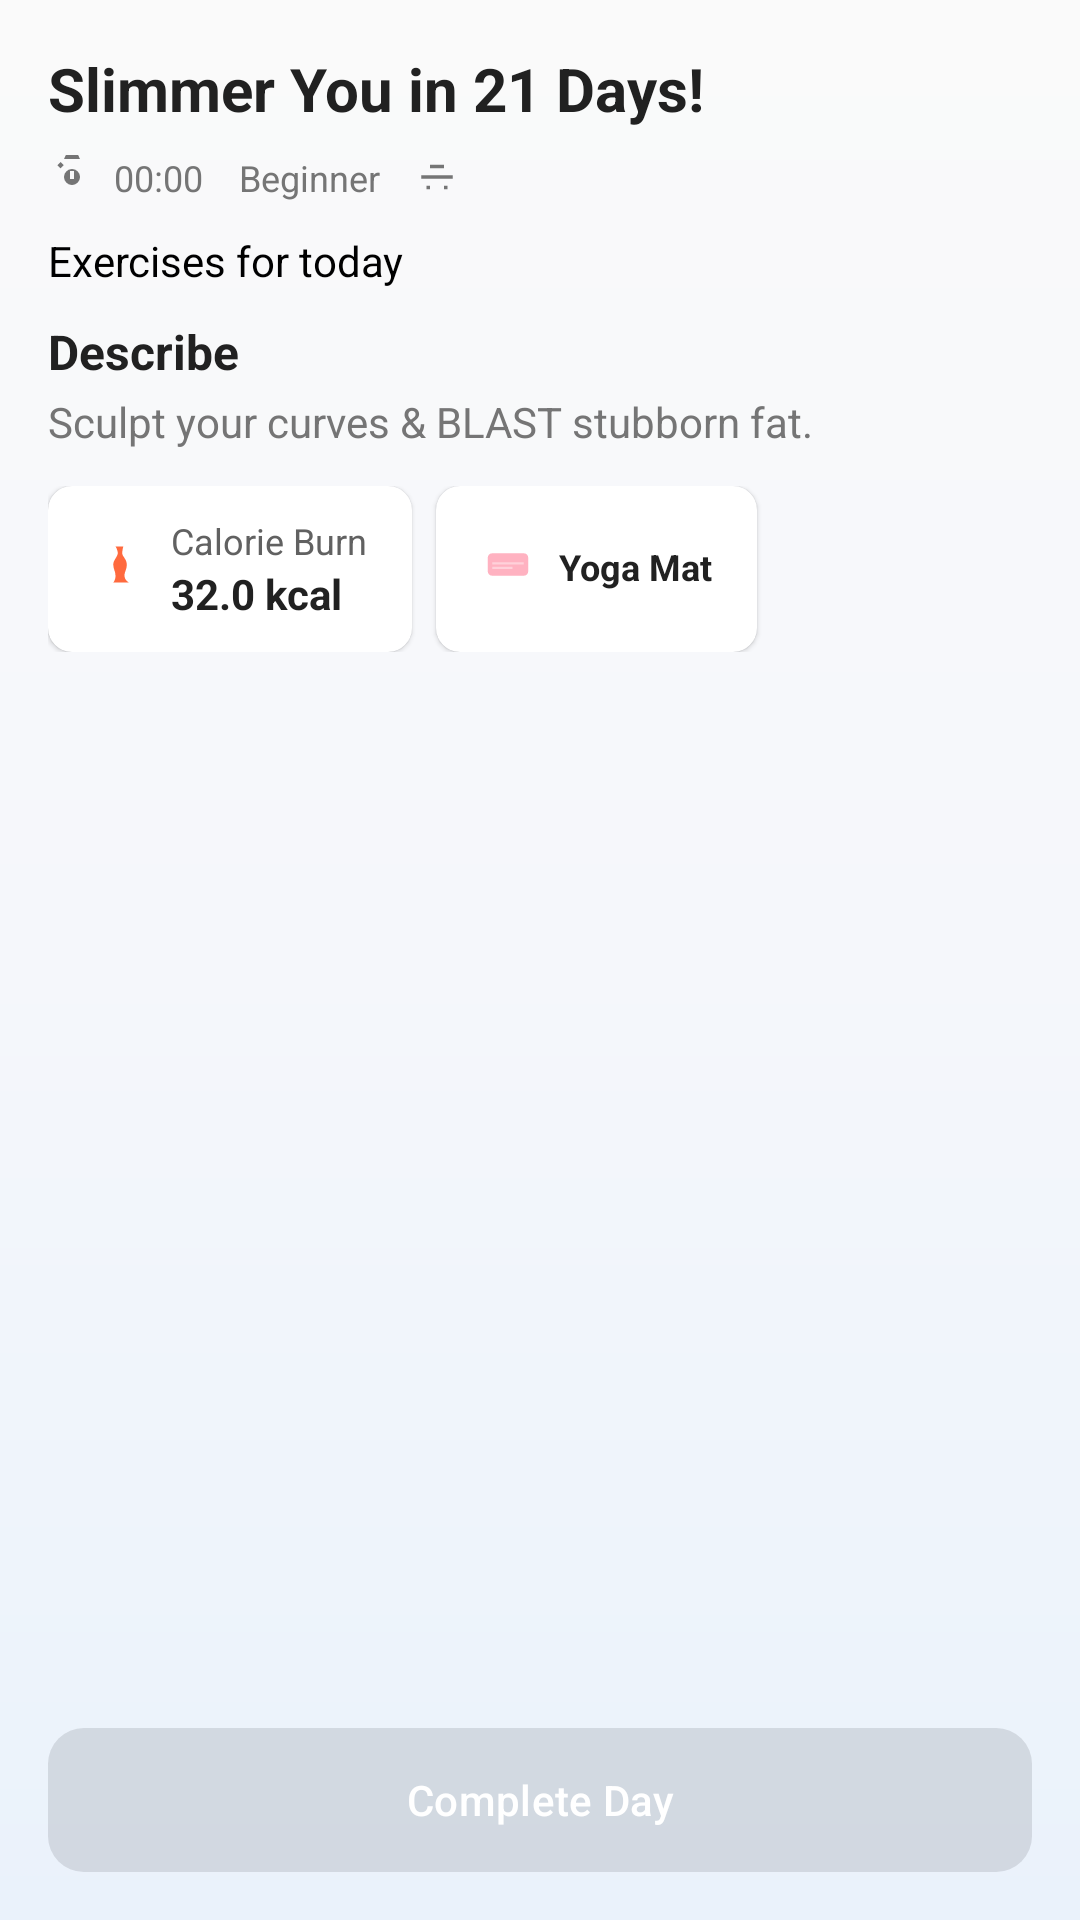

Icon bounding boxes for this 1080px×1920px phone screenshot, format (x1, y1, x2, y2):
timer: (57, 155, 80, 185)
